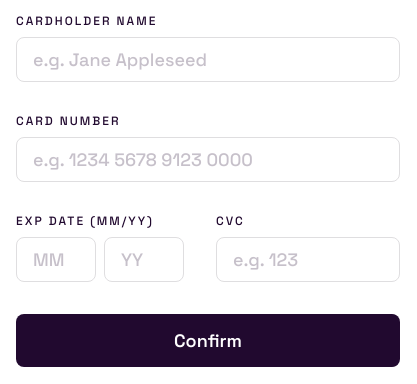
it: Error handling for Form Component › should format card number input in 16 digit pattern in 4-digit groups
Type "1234567812345678" into the field labelled "card number" at (208, 160), box top-left (16, 137), bottom-right (400, 182)
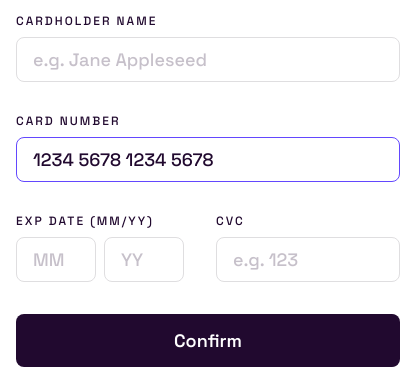
expect the field labelled "card number" holds "1234 5678 1234 5678": met, box top-left (16, 137), bottom-right (400, 182)
